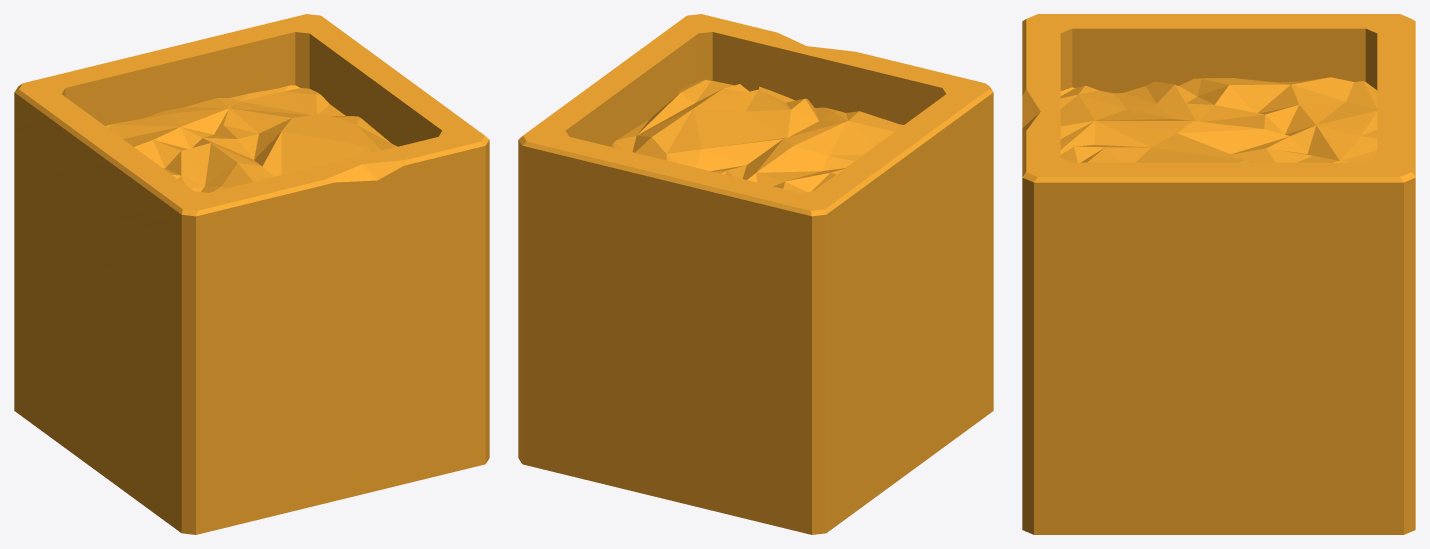
The model's file is SM_City_Planter_Street_E_Empty.fbx.
The picture shows the model from 3 angles, left to right: view 1: azimuth 30°, elevation 25°; view 2: azimuth 150°, elevation 25°; view 3: azimuth 270°, elevation 25°; orthographic projection. The views are drawn at different scales.
Parts seen in each view (by area): view 1: SM_City_Planter_Street_E_Empty; view 2: SM_City_Planter_Street_E_Empty; view 3: SM_City_Planter_Street_E_Empty.
Part boxes in pixels (x1,y1,x2,y2): SM_City_Planter_Street_E_Empty: [14, 14, 489, 534]; SM_City_Planter_Street_E_Empty: [518, 14, 993, 534]; SM_City_Planter_Street_E_Empty: [1022, 14, 1415, 534].
Bounding box in the file's own units: 0.8 × 0.8 × 0.8.
